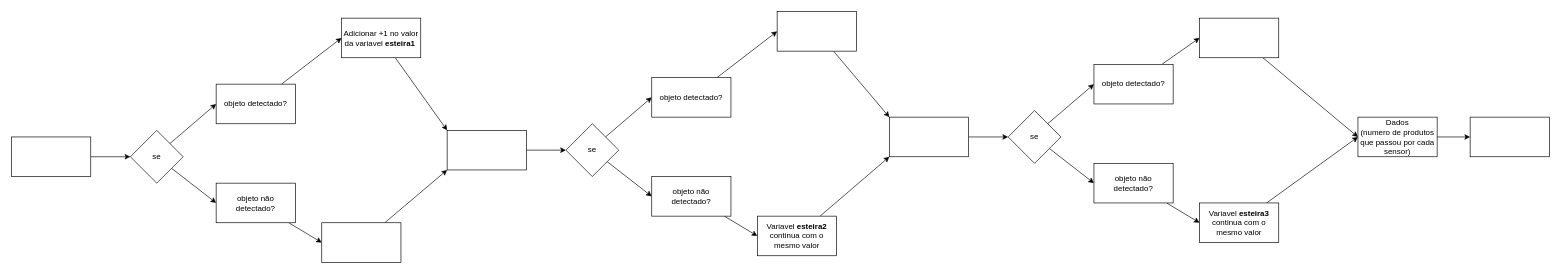
Image size: 1561x274. Some labels were removed from this diagram. Each missing label, with the centre of its shape:
"Adicionar +1 no valor da variavel esteira2" belongs at point 816,31.
"Adicionar +1 no valor da variavel esteira3" belongs at point 1239,37.
"Primeira esteira" belongs at point 51,156.
"Sgunda esteira" belongs at point 486,150.
"Terceira esteira" belongs at point 929,136.
"Total perdido em %" belongs at point 1509,136.
"Variavel esteira1 continua com o mesmo valor" belongs at point 361,242.
